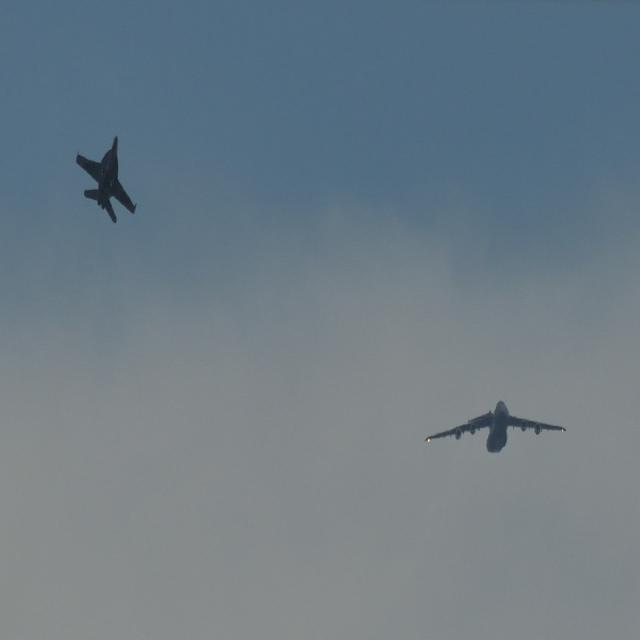MIL_Plane: (75, 134, 137, 224), (424, 422, 567, 432)
